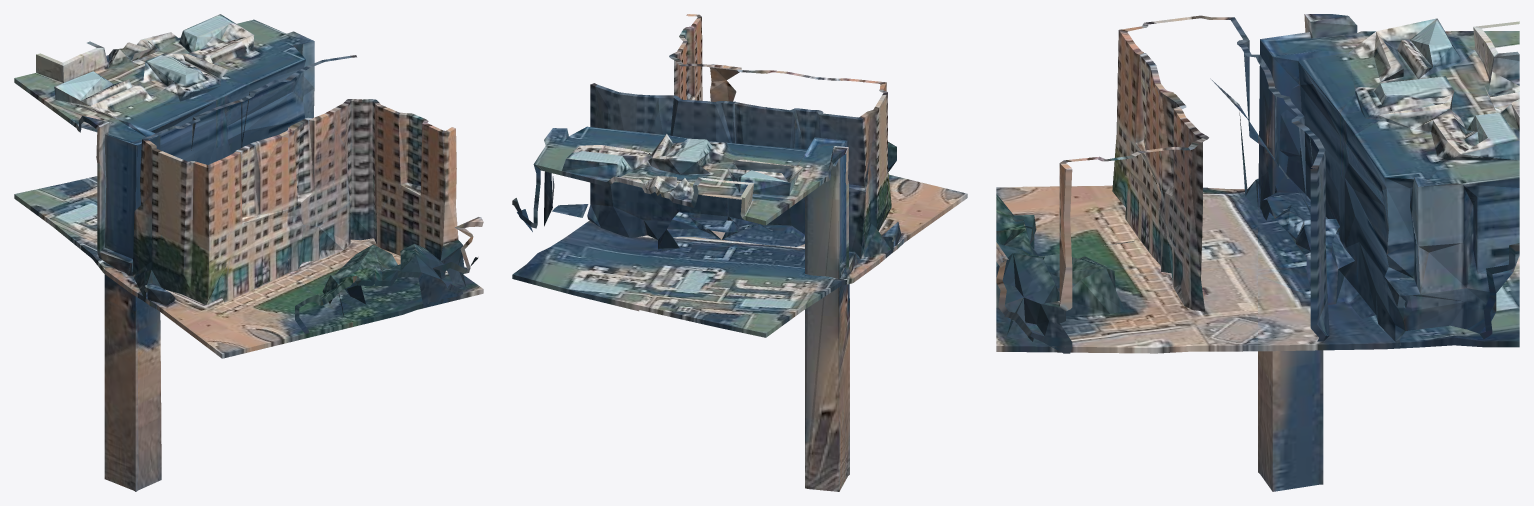
The model's file is chunk_5_-9.glb.
3 renders of one model, left to right at view 1: azimuth 30°, elevation 25°; view 2: azimuth 150°, elevation 25°; view 3: azimuth 270°, elevation 25°, orthographic. The views are drawn at different scales.
Parts seen in each view (by area): view 1: hero-chunk; view 2: hero-chunk; view 3: hero-chunk.
Boxes of the visible parts, x1,y1,x2,y2 form: hero-chunk: [14, 14, 483, 491]; hero-chunk: [512, 14, 967, 491]; hero-chunk: [996, 14, 1519, 491].
Size of the model in its own units: 55.42 by 73.3 by 76.33.
Materials: 1 (1 with a texture image).
